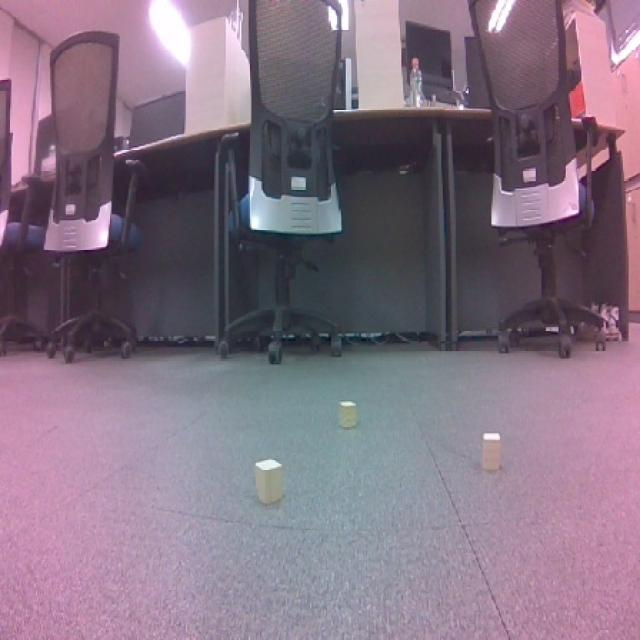obstacle: (246, 452, 294, 516), (474, 429, 509, 481), (332, 390, 368, 440)
